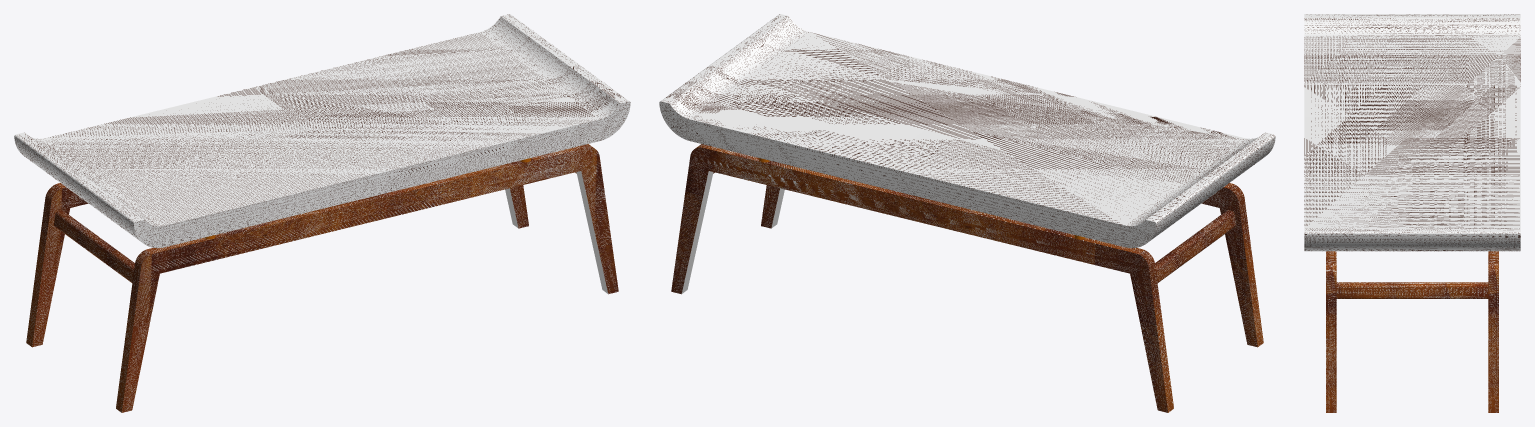
3 views of the same model, side by side, from view 1: azimuth 30°, elevation 25°; view 2: azimuth 150°, elevation 25°; view 3: azimuth 270°, elevation 25° (orthographic). The views are drawn at different scales.
Visible parts, largest first — view 1: mesh11_mesh11-geometry, mesh4_mesh4-geometry, mesh15_mesh15-geometry, mesh10_mesh10-geometry; view 2: mesh11_mesh11-geometry, mesh15_mesh15-geometry, mesh4_mesh4-geometry, mesh10_mesh10-geometry; view 3: mesh11_mesh11-geometry, mesh9_mesh9-geometry, mesh4_mesh4-geometry, mesh15_mesh15-geometry.
Part boxes in pixels (box(x1,y1,x2,y2)): mesh11_mesh11-geometry: box(14, 14, 630, 248); mesh4_mesh4-geometry: box(116, 144, 618, 412); mesh15_mesh15-geometry: box(26, 183, 528, 347); mesh10_mesh10-geometry: box(54, 210, 134, 282); mesh11_mesh11-geometry: box(659, 14, 1275, 248); mesh15_mesh15-geometry: box(671, 144, 1173, 412); mesh4_mesh4-geometry: box(761, 183, 1263, 347); mesh10_mesh10-geometry: box(1155, 210, 1235, 282); mesh11_mesh11-geometry: box(1304, 14, 1520, 251); mesh9_mesh9-geometry: box(1336, 282, 1488, 298); mesh4_mesh4-geometry: box(1326, 251, 1336, 412); mesh15_mesh15-geometry: box(1488, 251, 1498, 412).
Bounding box in the file's own units: 0.8702 × 0.3336 × 0.3626.
